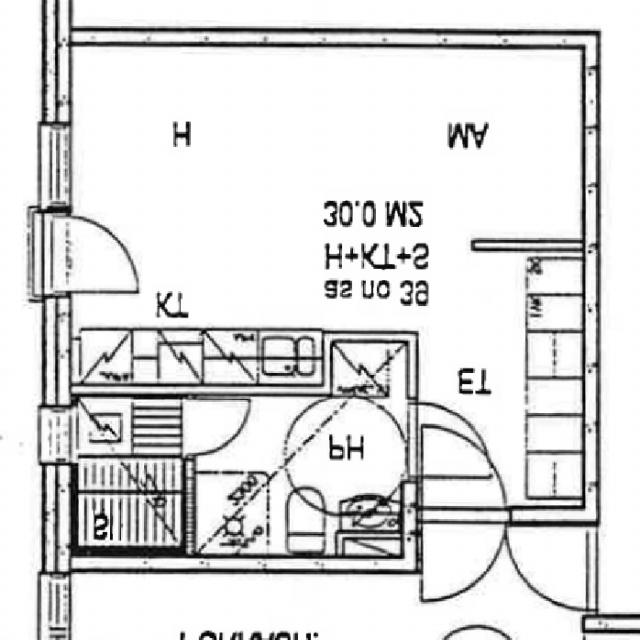door: (44, 212, 150, 292), (423, 424, 506, 524), (423, 509, 506, 607), (407, 403, 489, 475), (186, 398, 250, 454)
